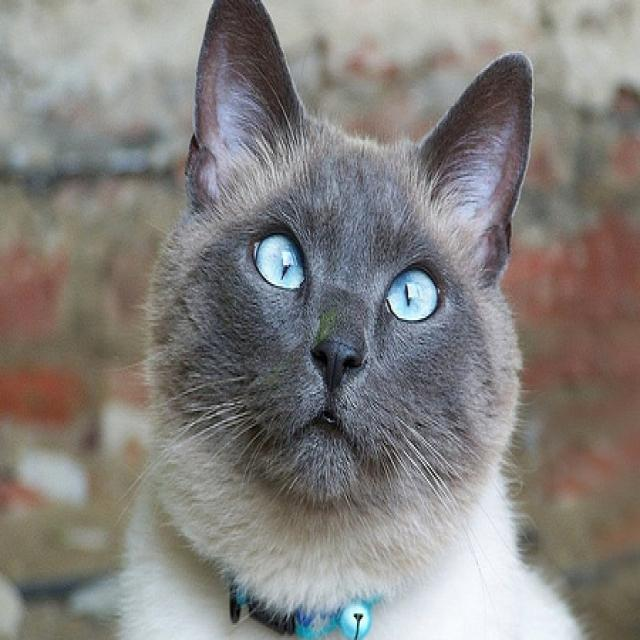Siamese: (119, 0, 602, 640)
